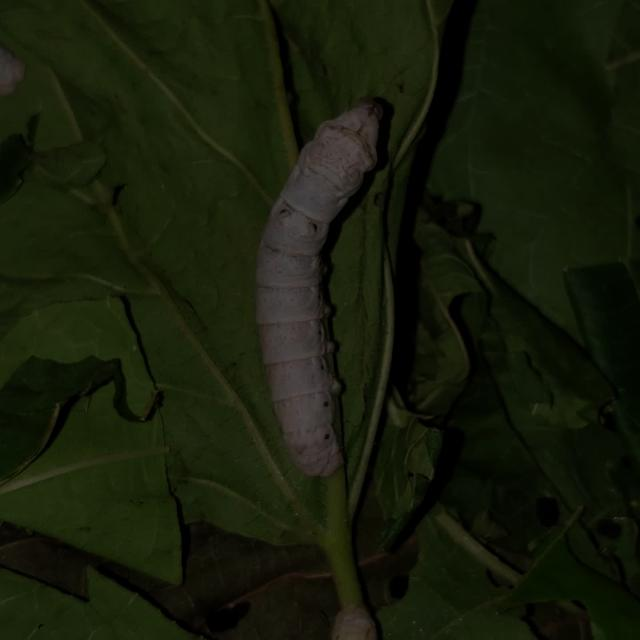Healthy: (243, 74, 439, 488)
